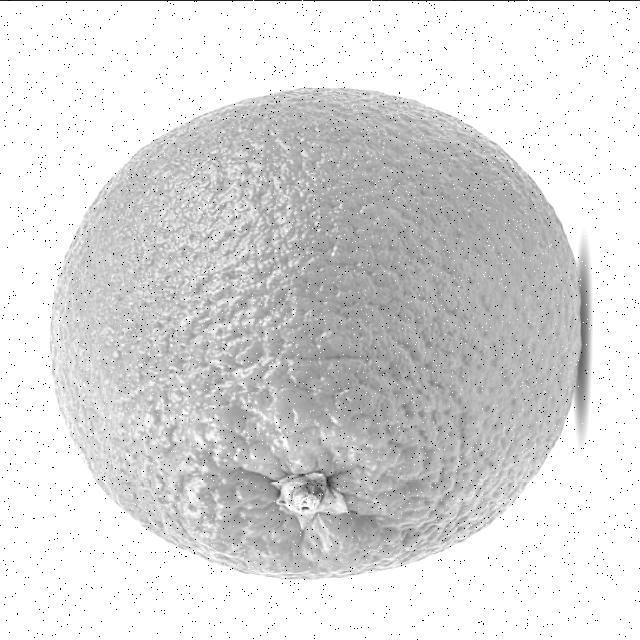Ripe: (38, 82, 588, 584)
